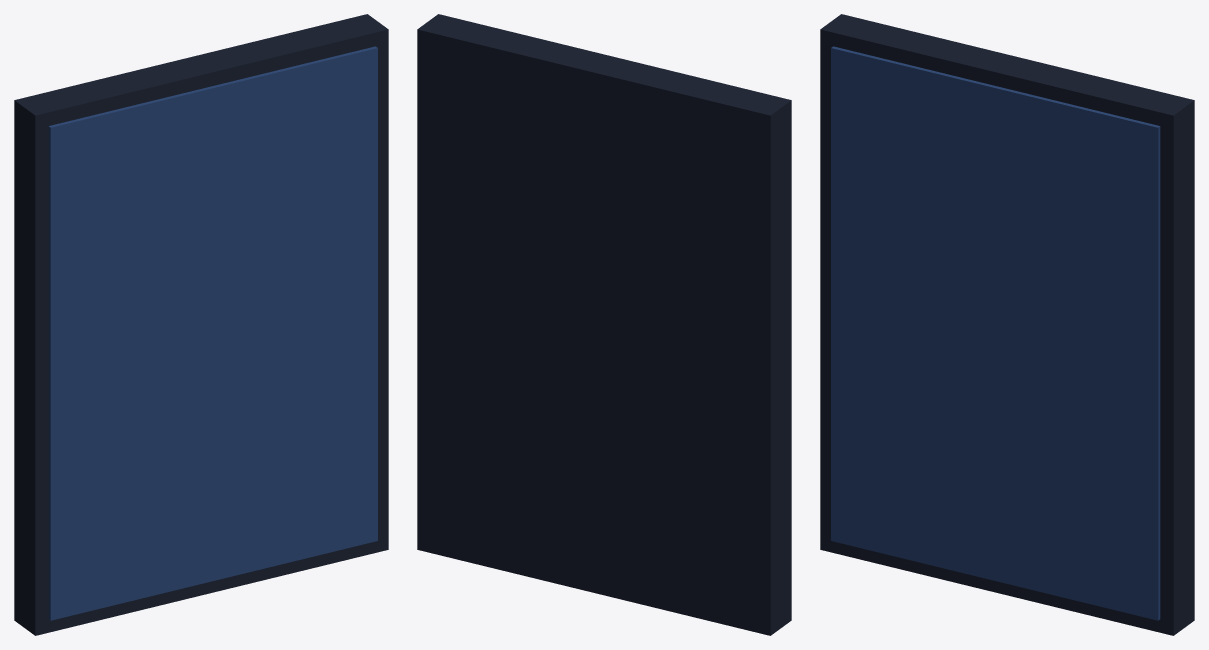
The model's file is dvd-1.glb.
3 views of the same model, side by side, from view 1: azimuth 30°, elevation 25°; view 2: azimuth 150°, elevation 25°; view 3: azimuth 330°, elevation 25° (orthographic).
Bounding box in the file's own units: 0.135 × 0.19 × 0.0155.
